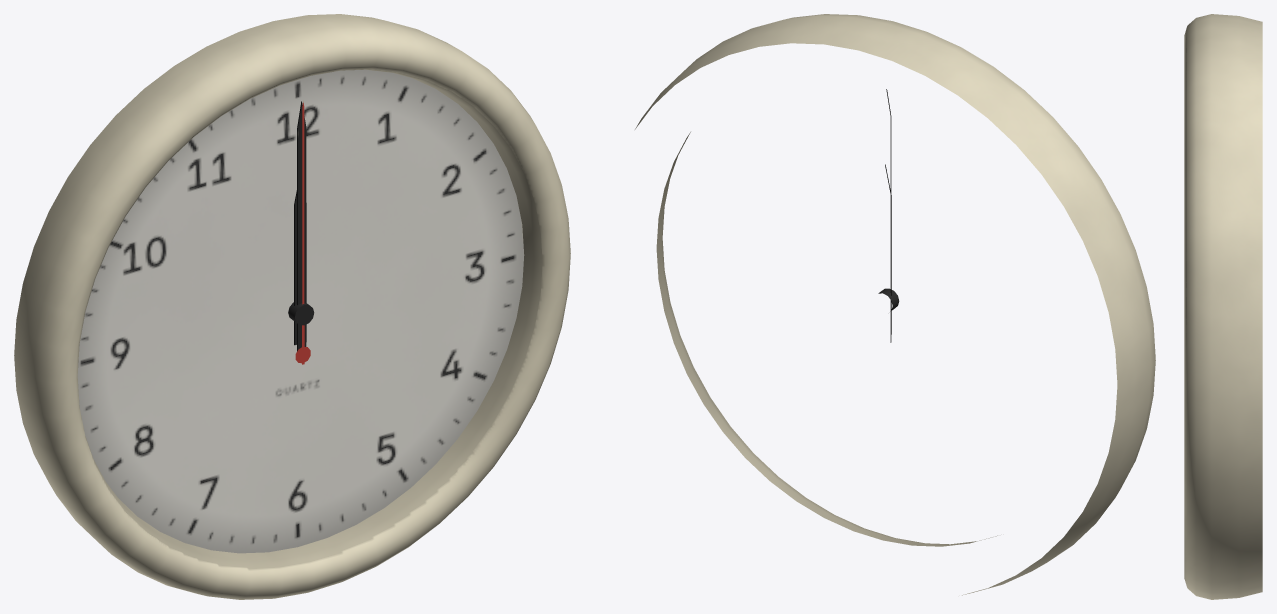
The model's file is wall_clock.glb.
3 views of the same model, side by side, from view 1: azimuth 30°, elevation 25°; view 2: azimuth 150°, elevation 25°; view 3: azimuth 270°, elevation 25° (orthographic). The views are drawn at different scales.
Parts seen in each view (by area): view 1: WallClock, MinuteHand; view 2: WallClock; view 3: WallClock.
Boxes of the visible parts, bbox=[...] form: WallClock: bbox=[14, 14, 570, 599]; MinuteHand: bbox=[297, 101, 306, 351]; WallClock: bbox=[635, 14, 1155, 595]; WallClock: bbox=[1184, 14, 1262, 599].
Size of the model in its own units: 0.3 by 0.3 by 0.04.
1 material, 1 textured.
